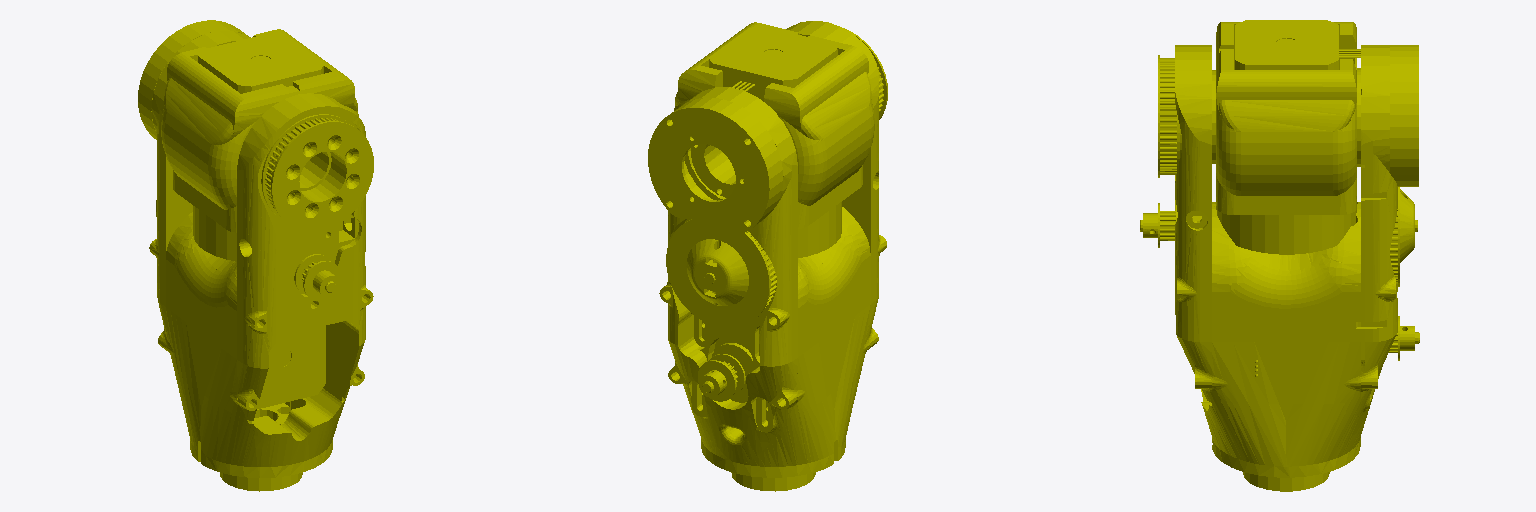
URDF robot description (bliss):
<?xml version="1.0"?>
<robot name="bliss">

    <link name="link1">
        <visual>
            <origin xyz="0.047 0.0121 0.25" rpy="0 0 3.1415926" />
            <geometry>
                <mesh filename="package://bliss_description/meshes/link1.STL" />
            </geometry>
            <material name="gray">
                <color rgba="0.75 0.75 0.75 1"/>
            </material>
        </visual>
        <collision>
          <origin xyz="0.047 0.0121 0.25" rpy="0 0 3.1415926" />
            <geometry>
                <mesh filename="package://bliss_description/meshes/link1.STL" />
            </geometry>
        </collision>
    </link>


    <joint name="joint1" type="revolute">
        <origin xyz="0 0 0.043" rpy="0 0 0"/>
        <axis xyz="0 0 1"/>
        <limit lower="-2.0" upper="2.0" effort="100" velocity="1.57"/>
        <parent link="link1"/>
        <child link="link2"/>
    </joint>

    <link name="link2">
        <visual>
            <origin xyz="0.047 0.012 0.208" rpy="0 0 3.1415926" />
            <geometry>
                <mesh filename="package://bliss_description/meshes/link2.STL" />
            </geometry>
            <material name="gray">
                <color rgba="0.75 0.75 0.75 1"/>
            </material>
        </visual>
        <collision>
          <origin xyz="0.047 0.012 0.208" rpy="0 0 3.1415926" />
            <geometry>
                <mesh filename="package://bliss_description/meshes/link2.STL" />
            </geometry>
        </collision>
    </link>

    <joint name="joint2" type="revolute">
        <origin xyz="0.047 -0.0485 0.098" rpy="0 0 0"/>
        <axis xyz="0 1 0"/>
        <limit lower="-1.5707963" upper="3.1415926" effort="100" velocity="1.57"/>
        <parent link="link2"/>
        <child link="link3"/>
    </joint>

    <link name="link3">
        <visual>
            <origin xyz="0 0 0" rpy="1.5707963 0 3.1415926" />
            <geometry>
                <mesh filename="package://bliss_description/meshes/link3.STL" />
            </geometry>
            <material name="gray">
                <color rgba="0.75 0.75 0.75 1"/>
            </material>
        </visual>
        <collision>
            <origin xyz="0 0 0" rpy="1.5707963 0 3.1415926" />
            <geometry>
                <mesh filename="package://bliss_description/meshes/link3.STL" />
            </geometry>
        </collision>
    </link>

    <joint name="joint3" type="revolute">
        <origin xyz="0 0.08 0.111" rpy="0 0 0"/>
        <axis xyz="0 1 0"/>
        <limit lower="-3.1415926" upper="1.5707963" effort="100" velocity="1.57"/>
        <parent link="link3"/>
        <child link="link4"/>
    </joint>


    <link name="link4">
        <visual>
          <origin xyz="0.08 -0.0286 0.01" rpy="0 0 3.1415926" />
            <geometry>
                <mesh filename="package://bliss_description/meshes/link4.STL" />
            </geometry>
            <material name="gray">
                <color rgba="0.75 0.75 0 1"/>
            </material>
        </visual>
        <collision>
          <origin xyz="0.08 -0.0286 0.01" rpy="0 0 3.1415926" />
            <geometry>
                <mesh filename="package://bliss_description/meshes/link4.STL" />
            </geometry>
        </collision>
    </link>


    <joint name="joint4" type="revolute">
        <origin xyz="-0.026 -0.0316 0.0258" rpy="0 1.5707963 0"/>
        <axis xyz="0 0 1"/>
        <limit lower="-1.5707963" upper="1.5707963" effort="100" velocity="1.57"/>
        <parent link="link4"/>
        <child link="link5"/>
    </joint>


    <link name="link5">
        <visual>
          <origin xyz="0.016 0.003 0.106" rpy="0 1.5707963 1.5707963" />
            <geometry>
                <mesh filename="package://bliss_description/meshes/link5.STL" />
            </geometry>
            <material name="gray">
                <color rgba="0.75 0.75 0 1"/>
            </material>
        </visual>
        <collision>
          <origin xyz="0.016 0.003 0.106" rpy="0 1.5707963 1.5707963" />
            <geometry>
                <mesh filename="package://bliss_description/meshes/link5.STL" />
            </geometry>
        </collision>
    </link>

    <joint name="joint5" type="revolute">
        <origin xyz="0 0 0.144" rpy="0 -1.5707963 0"/>
        <axis xyz="0 1 0"/>
        <limit lower="-3.1415926" upper="3.1415926" effort="100" velocity="1.57"/>
        <parent link="link5"/>
        <child link="link6"/>
    </joint>

    <link name="link6">
        <visual>
          <origin xyz="0.018 0 0" rpy="3.1415926 0 -1.5707963" />
            <geometry>
                <mesh filename="package://bliss_description/meshes/link6.STL" />
            </geometry>
            <material name="gray">
                <color rgba="0.75 0.75 0 1"/>
            </material>
        </visual>
        <collision>
          <origin xyz="0.018 0 0" rpy="3.1415926 0 -1.5707963" />
            <geometry>
                <mesh filename="package://bliss_description/meshes/link6.STL" />
            </geometry>
        </collision>
    </link>


    <joint name="joint6" type="revolute">
        <origin xyz="0.0253 0 0" rpy="0 0 0"/>
        <axis xyz="1 0 0"/>
        <limit lower="-3.1415926" upper="3.1415926" effort="100" velocity="1.57"/>
        <parent link="link6"/>
        <child link="link7"/>
    </joint>


    <link name="link7">
        <visual>
            <origin xyz="-0.0555 0.003 -0.016" rpy="0 0 3.1415926" />
            <geometry>
                <mesh filename="package://bliss_description/meshes/link7.STL" />
            </geometry>
            <material name="gray">
                <color rgba="0.75 0.75 0.75 1"/>
            </material>
        </visual>
        <collision>
          <origin xyz="-0.0555 0.003 -0.016" rpy="0 0 3.1415926" />
            <geometry>
                <mesh filename="package://bliss_description/meshes/link7.STL" />
            </geometry>
        </collision>
    </link>

</robot>

--- What the picture shows (computed from the rendered views, not written in the file) ---
Views: 3 orthographic renders of the robot side by side, from view 1: azimuth 30°, elevation 25°; view 2: azimuth 150°, elevation 25°; view 3: azimuth 270°, elevation 25°.
Robot: bliss — 7 links, 6 joints (6 revolute); root link link1; default pose: every joint at zero.
Links seen in each view (by area): view 1: link4, link5; view 2: link4, link5; view 3: link4, link5.
Boxes of the visible links, bbox=[...] form: link4: bbox=[138, 20, 373, 491]; link5: bbox=[161, 29, 358, 261]; link4: bbox=[648, 21, 887, 491]; link5: bbox=[674, 22, 874, 257]; link4: bbox=[1140, 45, 1419, 491]; link5: bbox=[1212, 20, 1360, 254].
Size in the robot's own frame: 0.0728 by 0.1129 by 0.192 metres.
2 mesh visuals loaded from 7 distinct referenced files (2 binary STL); not drawn: 5 (reference not matched to a file when rendering).